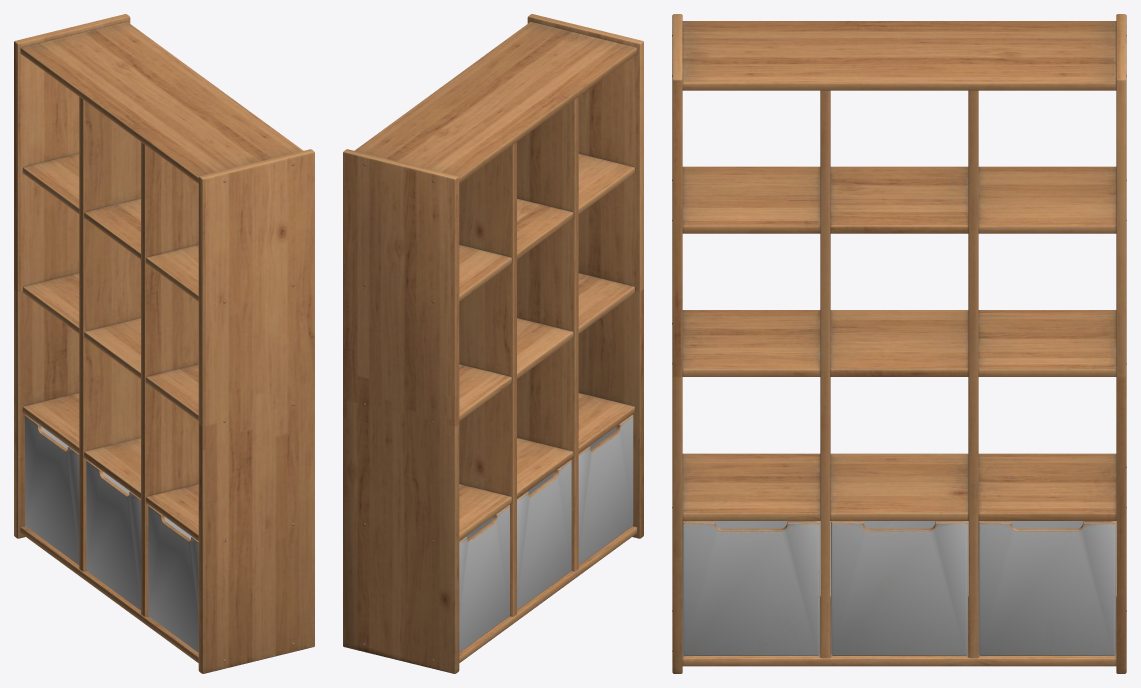
Rendered from DisplayShelvesWood.obj.
3 views of the same model, side by side, from view 1: azimuth 30°, elevation 25°; view 2: azimuth 150°, elevation 25°; view 3: azimuth 270°, elevation 25° (orthographic). The views are drawn at different scales.
Visible parts, largest first — view 1: Wood; view 2: Wood; view 3: Wood.
Part boxes in pixels (left/top/right/bottom): Wood: left=14, top=14, right=314, bottom=673; Wood: left=343, top=14, right=643, bottom=673; Wood: left=672, top=14, right=1126, bottom=673.
Bounding box in the file's own units: 0.3716 × 1.56 × 1.08.
1 material, 1 textured.
